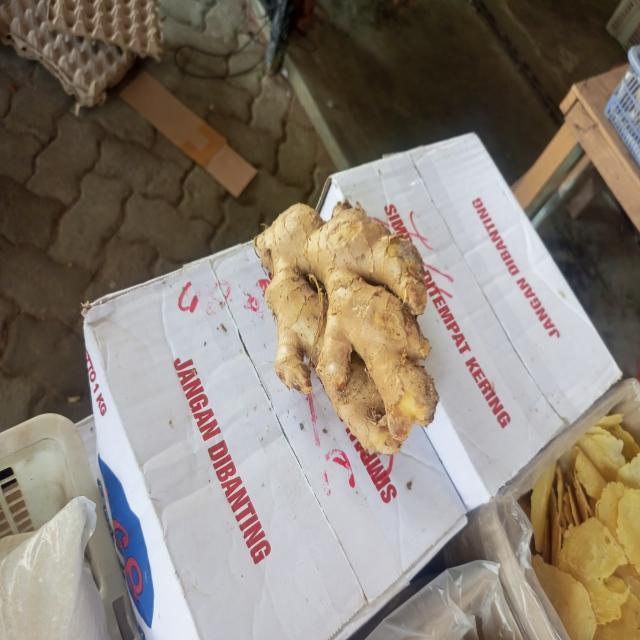ginger: (257, 205, 435, 448)
